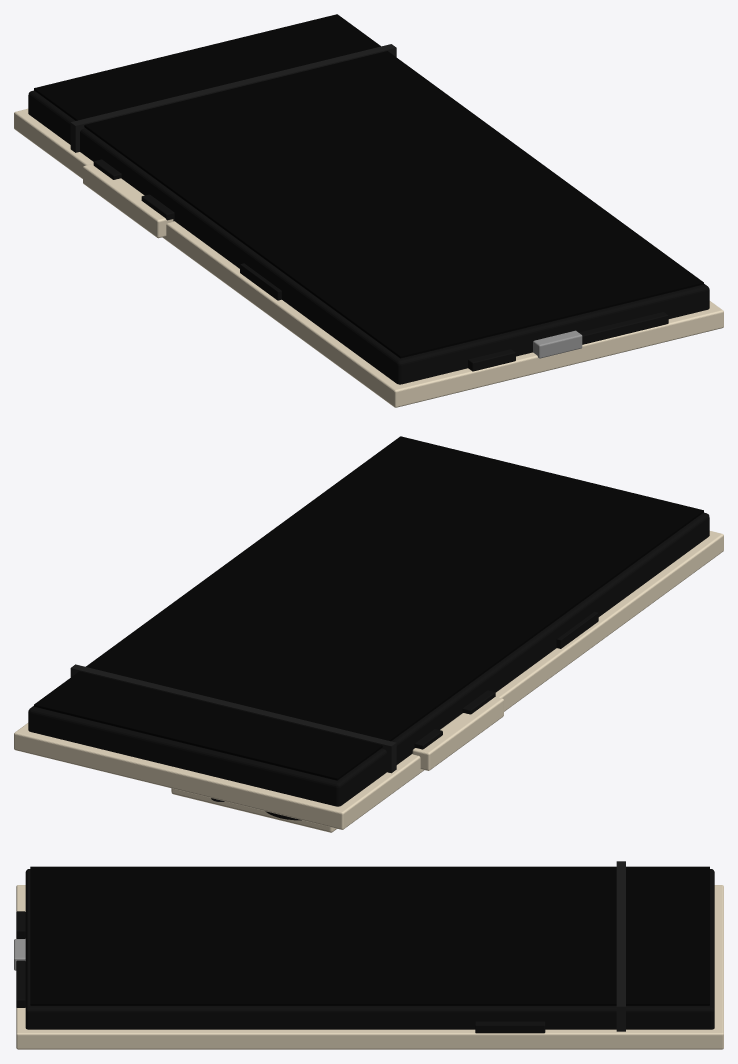
The model's file is iPhone_Assembly.obj.
3 renders of one model, top to bottom at view 1: azimuth 30°, elevation 25°; view 2: azimuth 150°, elevation 25°; view 3: azimuth 270°, elevation 25°, orthographic. The views are drawn at different scales.
Visible parts, largest first — view 1: 2_FrontGlass, 1_TitaniumFrame, 36_CreamSiliconeCase, 22_AntennaBands, 39_CaseButtonCovers, 20_SpeakerGrills, 19_USBCPort, 5_DisplayBezels, 21_BottomMicrophones; view 2: 2_FrontGlass, 1_TitaniumFrame, 36_CreamSiliconeCase, 22_AntennaBands, 39_CaseButtonCovers, 38_CaseCameraCutout; view 3: 2_FrontGlass, 1_TitaniumFrame, 36_CreamSiliconeCase, 22_AntennaBands, 17_PowerButton, 5_DisplayBezels, 20_SpeakerGrills.
Boxes of the visible parts, box(x1,y1,x2,y2) form: 2_FrontGlass: box(34, 14, 703, 358); 1_TitaniumFrame: box(28, 90, 709, 384); 36_CreamSiliconeCase: box(14, 108, 723, 407); 22_AntennaBands: box(70, 44, 396, 152); 39_CaseButtonCovers: box(83, 163, 173, 238); 20_SpeakerGrills: box(579, 312, 668, 344); 19_USBCPort: box(533, 330, 582, 358); 5_DisplayBezels: box(34, 90, 703, 358); 21_BottomMicrophones: box(468, 349, 515, 371); 2_FrontGlass: box(34, 436, 703, 780); 1_TitaniumFrame: box(28, 512, 709, 806); 36_CreamSiliconeCase: box(14, 531, 723, 829); 22_AntennaBands: box(70, 664, 396, 773); 39_CaseButtonCovers: box(412, 697, 503, 770); 38_CaseCameraCutout: box(171, 788, 336, 832); 2_FrontGlass: box(30, 866, 709, 1005); 1_TitaniumFrame: box(25, 869, 714, 1029); 36_CreamSiliconeCase: box(16, 885, 723, 1049); 22_AntennaBands: box(616, 861, 625, 1031); 17_PowerButton: box(475, 1021, 545, 1033); 5_DisplayBezels: box(30, 1005, 709, 1005); 20_SpeakerGrills: box(16, 960, 25, 1007).
Bounding box in the file's own units: 0.0776 × 0.0143 × 0.1521.
